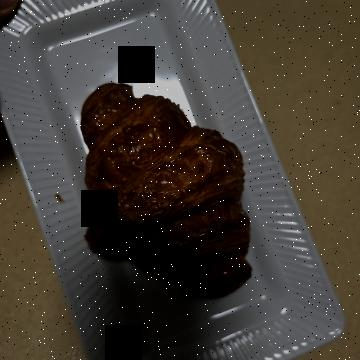croissant: (57, 99, 305, 296)
